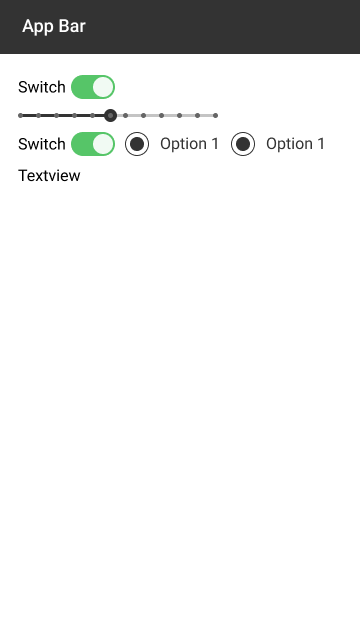radioButton: (124, 131, 220, 157), (230, 130, 326, 156)
slider: (11, 107, 223, 123)
switch: (14, 131, 116, 158), (12, 75, 118, 98)
textView: (17, 167, 82, 183)
toolbar: (2, 1, 360, 54)
